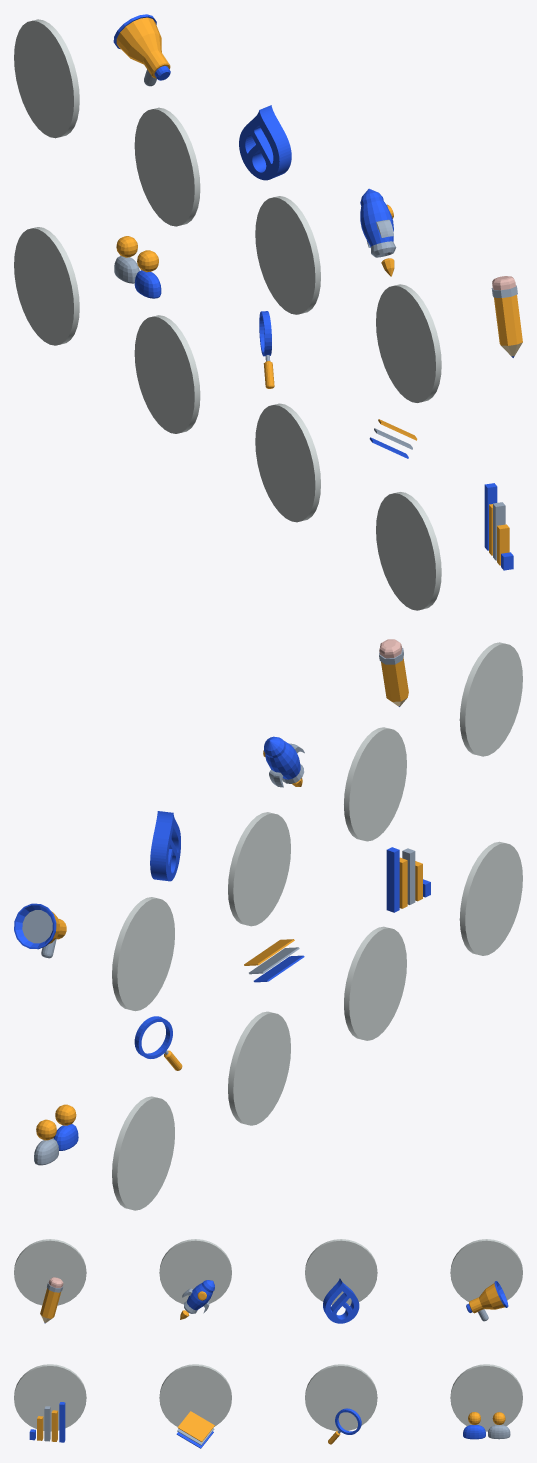
Rendered from void_3d_menu_draco.gltf.
The picture shows the model from 3 angles, top to bottom: view 1: azimuth 30°, elevation 25°; view 2: azimuth 150°, elevation 25°; view 3: azimuth 270°, elevation 25°; orthographic projection. The views are drawn at different scales.
Parts seen in each view (by area): view 1: rond-ui-item-08, rond-ui-item.05, rond-ui-item-02, rond-ui-item-06, rond-ui-item-01, rond-ui-item-03, rond-ui-item-07, rond-ui-item-04, drupal-item, megaphone-item, fusee-big-tronc, UX-pencil-item (+1 smaller); view 2: rond-ui-item-08, rond-ui-item.05, rond-ui-item-04, rond-ui-item-06, rond-ui-item-07, rond-ui-item-03, rond-ui-item-01, rond-ui-item-02, megaphone-item, drupal-item, fusee-big-tronc, UX-pencil-item (+2 smaller); view 3: rond-ui-item-07, rond-ui-item-08, rond-ui-item-01, rond-ui-item-06, rond-ui-item.05, rond-ui-item-03, rond-ui-item-04, rond-ui-item-02, drupal-item, megaphone-item, fusee-big-tronc, UX-pencil-item (+5 smaller).
Part boxes in pixels (x1,y1,x2,y2): rond-ui-item-08: (14,227,79,345); rond-ui-item.05: (376,492,441,610); rond-ui-item-02: (255,196,320,314); rond-ui-item-06: (255,403,320,522); rond-ui-item-01: (376,284,441,402); rond-ui-item-03: (134,107,200,226); rond-ui-item-07: (134,315,200,433); rond-ui-item-04: (14,19,79,138); drupal-item: (239,105,291,180); megaphone-item: (113,14,170,86); fusee-big-tronc: (360,188,396,257); UX-pencil-item: (491,276,522,357); rond-ui-item-08: (112,1096,174,1210); rond-ui-item.05: (459,841,522,955); rond-ui-item-04: (112,897,174,1011); rond-ui-item-06: (344,926,406,1040); rond-ui-item-07: (228,1011,290,1125); rond-ui-item-03: (228,812,290,926); rond-ui-item-01: (459,642,522,756); rond-ui-item-02: (344,727,406,841); megaphone-item: (14,903,66,958); drupal-item: (150,811,180,881); fusee-big-tronc: (264,736,304,787); UX-pencil-item: (379,639,408,706); rond-ui-item-07: (305,1364,377,1431); rond-ui-item-08: (450,1364,522,1431); rond-ui-item-01: (14,1239,86,1305); rond-ui-item-06: (159,1364,231,1426); rond-ui-item.05: (14,1364,86,1431); rond-ui-item-03: (305,1239,377,1306); rond-ui-item-04: (450,1239,522,1301); rond-ui-item-02: (159,1239,231,1304); drupal-item: (323,1278,359,1323); megaphone-item: (466,1281,508,1321); fusee-big-tronc: (182,1280,214,1313); UX-pencil-item: (40,1277,63,1323).
Size of the model in its own units: 8 by 17.96 by 43.42.
